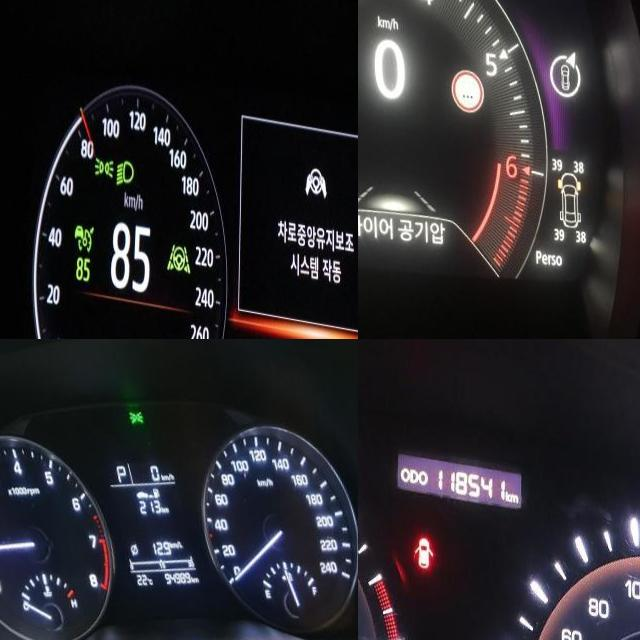Doors: (413, 525, 433, 560)
Low beam: (116, 152, 134, 183)
SideLamp: (94, 151, 113, 174), (126, 393, 144, 414)
